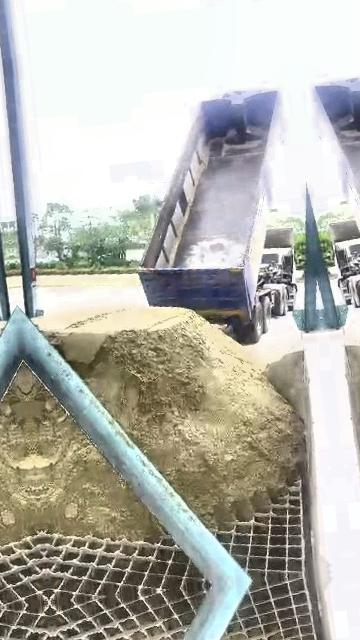sand: (37, 307, 303, 527), (24, 369, 160, 539), (265, 339, 309, 421)
